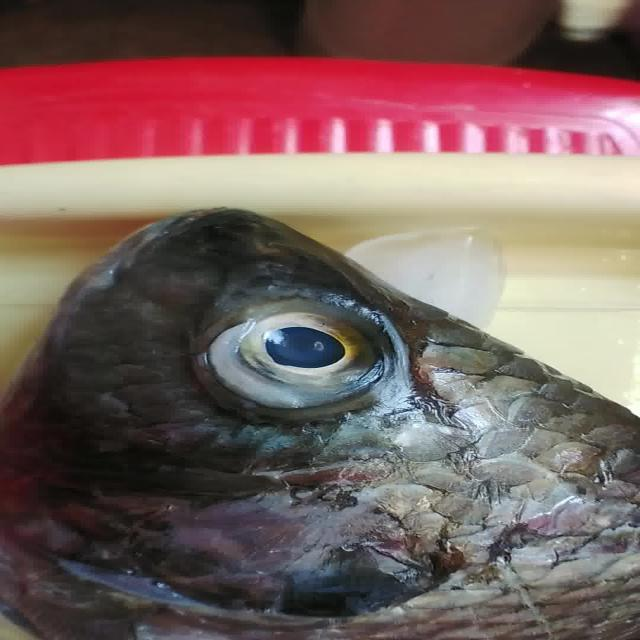Fresh: (182, 296, 409, 420)
